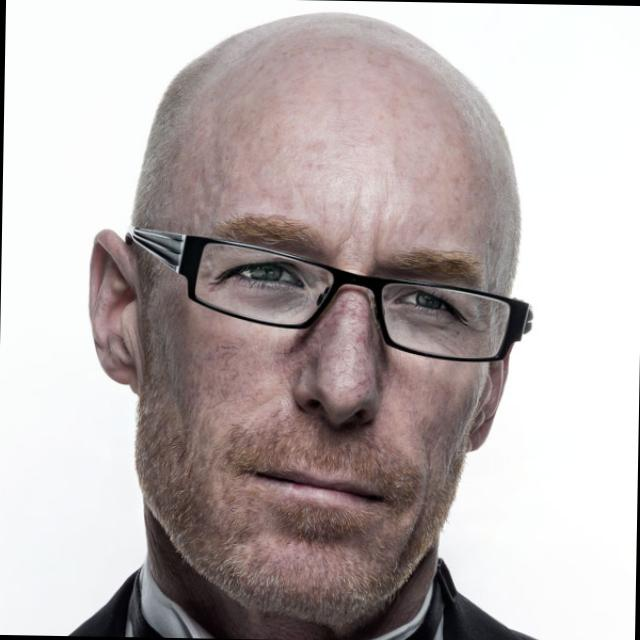face: (108, 38, 540, 627)
